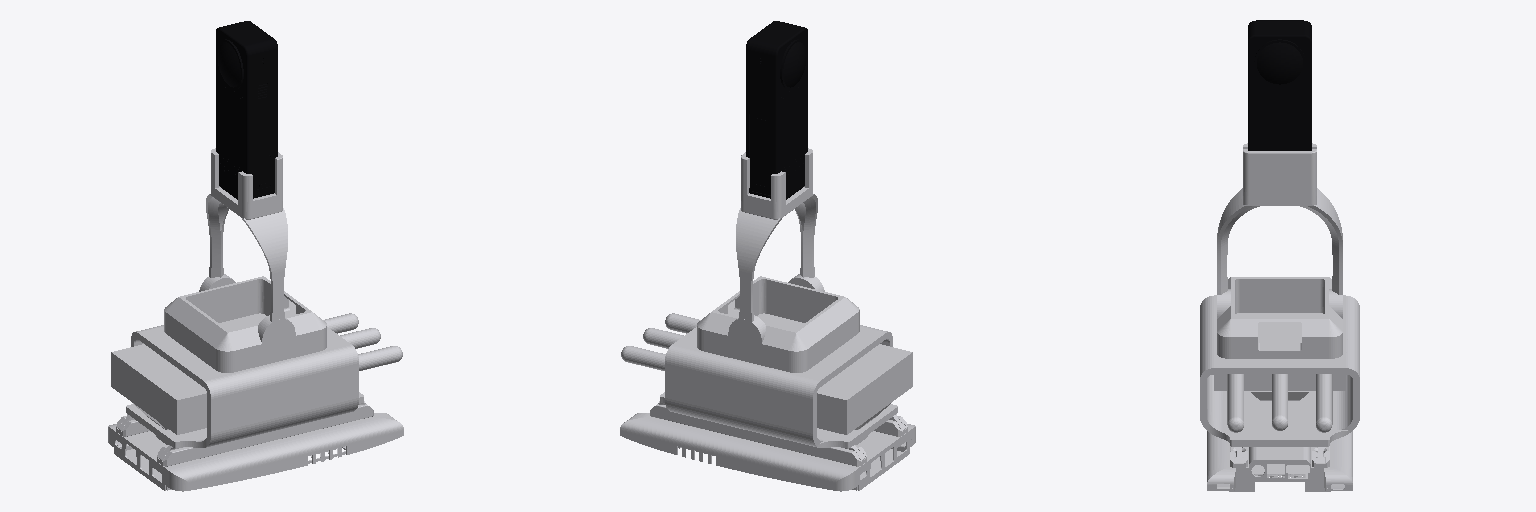
robot.urdf — go2_sensor_mount:
<?xml version="1.0"?>
<!-- Сделано scripts/mount_urdf.py из экспорта Fusion 360 (Untitled_description). Не править руками —
     переэкспортировать из Fusion и запустить скрипт заново. Массы — из аргументов скрипта. -->
<robot name="go2_sensor_mount">
  <material name="mount_gray"><color rgba="0.82 0.82 0.84 1"/></material>
  <material name="lidar_dark"><color rgba="0.18 0.18 0.2 1"/></material>
  <material name="camera_black"><color rgba="0.08 0.08 0.09 1"/></material>

  <link name="sensor_mount_link">
    <inertial>
      <origin xyz="0.004851 -0.000000 0.116853" rpy="0 0 0"/>
      <mass value="0.8000"/>
      <inertia ixx="4.508e-03" iyy="6.223e-03" izz="3.448e-03" ixy="0" ixz="0" iyz="0"/>
    </inertial>
    <visual>
      <origin xyz="0.038690 -0.000000 0.150706" rpy="0.000000 0.000000 1.570796"/>
      <geometry><mesh filename="package://go2_sensor_mount/meshes/mount_base.stl" scale="0.001 0.001 0.001"/></geometry>
      <material name="mount_gray"/>
    </visual>
    <collision>
      <origin xyz="0.004851 -0.000000 0.116853" rpy="0 0 0"/>
      <geometry><box size="0.1968 0.1140 0.2337"/></geometry>
    </collision>
  </link>

  <!-- Mid-360: кадр звена = система координат облака (руководство Livox: O на 47 мм над дном,
       +X от разъёма, Z вверх). livox_frame — то же имя, что у livox_ros_driver2. -->
  <link name="mid360_link">
    <inertial>
      <origin xyz="0.000000 0.000000 -0.016951" rpy="0 0 0"/>
      <mass value="0.2650"/>
      <inertia ixx="1.495e-04" iyy="1.495e-04" izz="1.400e-04" ixy="0" ixz="0" iyz="0"/>
    </inertial>
    <visual>
      <origin xyz="-0.045612 0.000109 0.018906" rpy="0.000000 0.000000 -1.570796"/>
      <geometry><mesh filename="package://go2_sensor_mount/meshes/mid360.stl" scale="0.001 0.001 0.001"/></geometry>
      <material name="lidar_dark"/>
    </visual>
    <collision>
      <origin xyz="0.000000 0.000000 -0.016951" rpy="0 0 0"/>
      <geometry><cylinder radius="0.0325" length="0.060"/></geometry>
    </collision>
  </link>
  <joint name="mid360_joint" type="fixed">
    <origin xyz="-0.006922 0.000109 0.131800" rpy="0.000000 0.000000 3.141593"/>
    <parent link="sensor_mount_link"/>
    <child link="mid360_link"/>
  </joint>
  <link name="livox_frame"/>
  <joint name="livox_frame_joint" type="fixed">
    <origin xyz="0.000000 0.000000 0.000000" rpy="0.000000 0.000000 0.000000"/>
    <parent link="mid360_link"/>
    <child link="livox_frame"/>
  </joint>

  <!-- Insta360 X5: кадр звена — середина между объективами, X к переднему объективу, Z вверх. -->
  <link name="insta360_link">
    <inertial>
      <origin xyz="-0.000021 0.000018 -0.040937" rpy="0 0 0"/>
      <mass value="0.2000"/>
      <inertia ixx="2.936e-04" iyy="2.826e-04" izz="5.952e-05" ixy="0" ixz="0" iyz="0"/>
    </inertial>
    <visual>
      <origin xyz="0.043979 0.000018 -0.152187" rpy="0.000000 0.000000 1.570796"/>
      <geometry><mesh filename="package://go2_sensor_mount/meshes/insta360_x5.stl" scale="0.001 0.001 0.001"/></geometry>
      <material name="camera_black"/>
    </visual>
    <collision>
      <origin xyz="-0.000021 0.000018 -0.040937" rpy="0 0 0"/>
      <geometry><box size="0.0381 0.0460 0.1245"/></geometry>
    </collision>
  </link>
  <joint name="insta360_joint" type="fixed">
    <origin xyz="-0.005289 -0.000018 0.302893" rpy="0.000000 0.000000 0.000000"/>
    <parent link="sensor_mount_link"/>
    <child link="insta360_link"/>
  </joint>
  <link name="insta360_front"/>
  <joint name="insta360_front_joint" type="fixed">
    <origin xyz="0.017076 0.000010 0.000043" rpy="0.000000 0.000000 0.000000"/>
    <parent link="insta360_link"/>
    <child link="insta360_front"/>
  </joint>
  <link name="insta360_back"/>
  <joint name="insta360_back_joint" type="fixed">
    <origin xyz="-0.017076 -0.000010 -0.000043" rpy="0.000000 0.000000 3.141593"/>
    <parent link="insta360_link"/>
    <child link="insta360_back"/>
  </joint>
  <link name="insta360_front_optical"/>
  <joint name="insta360_front_optical_joint" type="fixed">
    <origin xyz="0.000000 0.000000 0.000000" rpy="-1.570796 0.000000 -1.570796"/>
    <parent link="insta360_front"/>
    <child link="insta360_front_optical"/>
  </joint>
  <link name="insta360_back_optical"/>
  <joint name="insta360_back_optical_joint" type="fixed">
    <origin xyz="0.000000 0.000000 0.000000" rpy="-1.570796 0.000000 -1.570796"/>
    <parent link="insta360_back"/>
    <child link="insta360_back_optical"/>
  </joint>
</robot>

--- Render facts (derived) ---
3 views of the same robot in one strip: view 1: azimuth 30°, elevation 25°; view 2: azimuth 150°, elevation 25°; view 3: azimuth 270°, elevation 25° (orthographic).
Robot: go2_sensor_mount — 8 links, 7 joints (7 fixed); root link sensor_mount_link; default pose: every joint at zero.
Links seen in each view (by area): view 1: sensor_mount_link, insta360_link; view 2: sensor_mount_link, insta360_link; view 3: sensor_mount_link, insta360_link.
Link boxes in pixels (x1,y1,x2,y2): sensor_mount_link: (108, 148, 403, 491); insta360_link: (216, 21, 277, 199); sensor_mount_link: (620, 148, 915, 491); insta360_link: (746, 21, 807, 199); sensor_mount_link: (1200, 143, 1359, 491); insta360_link: (1248, 20, 1311, 150).
Bounding box of the posed robot: 0.1968 × 0.114 × 0.3242 m (x, y, z).
2 mesh visuals loaded from 3 distinct referenced files (2 binary STL); not drawn: 1 (reference not matched to a file when rendering).
